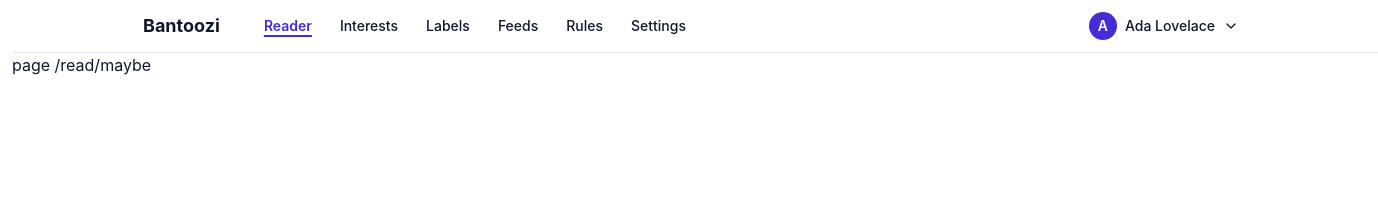
Test: AppShellLayout › shows the plan under the email in the account menu, not in the top bar
Expected: the text "Premium plan" is not shown
Click the button with aria-label "Account menu: Ada Lovelace". click: (1164, 26)
box: [1073,4,1255,48]
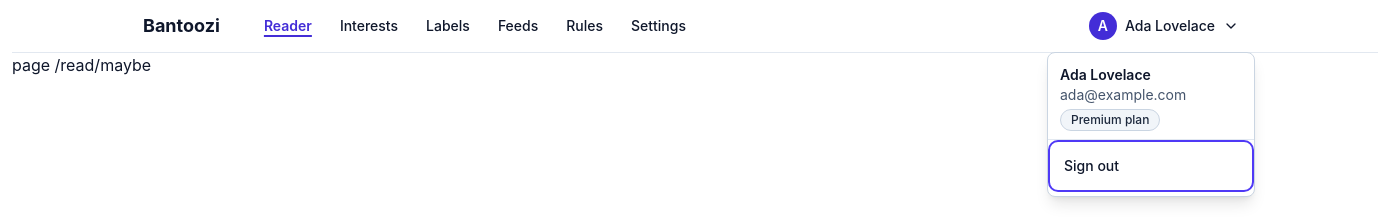
Expected: the text "Premium plan" is shown, [1060,109,1160,131]
